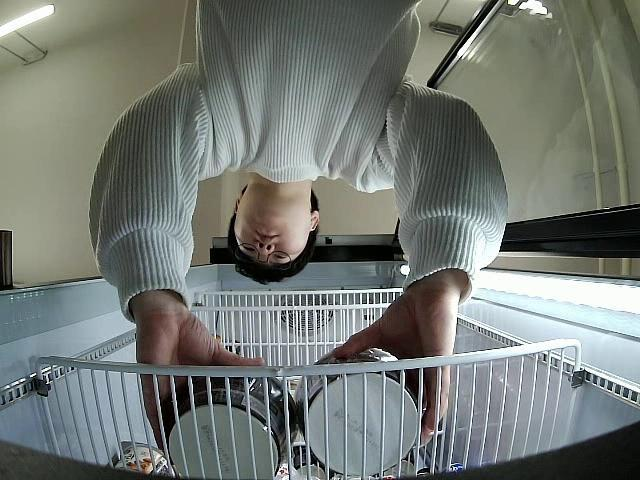07_buldak_L: (298, 350, 421, 474), (160, 379, 297, 480)
